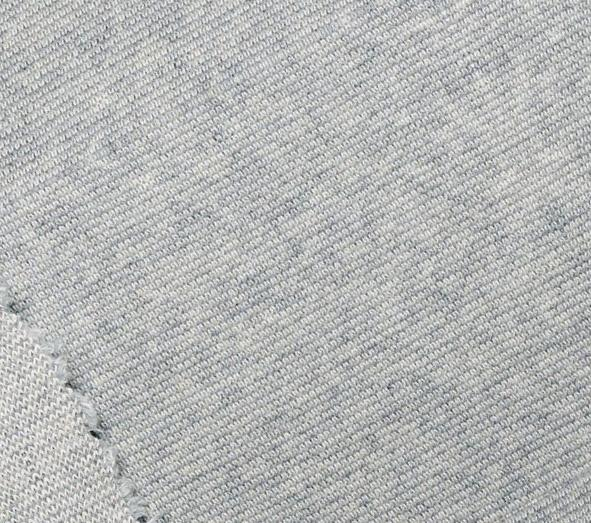slub: (0, 280, 155, 523)
